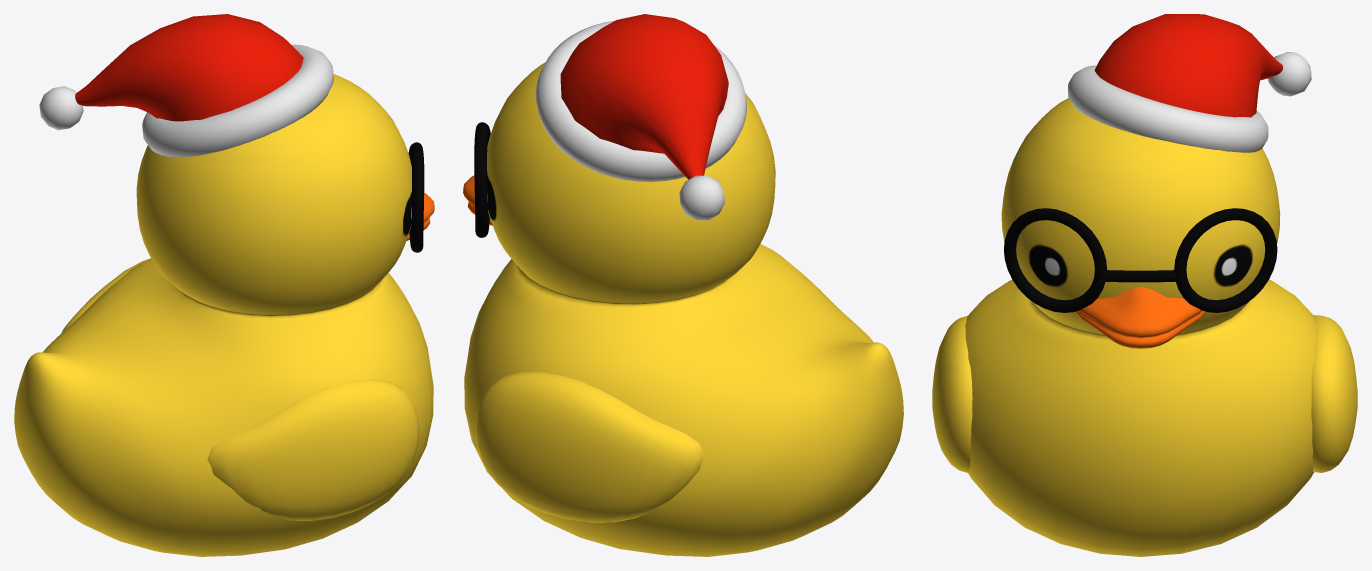
The model's file is bcduck_glasses.glb.
The picture shows the model from 3 angles, left to right: view 1: azimuth 30°, elevation 25°; view 2: azimuth 150°, elevation 25°; view 3: azimuth 270°, elevation 25°; orthographic projection. The views are drawn at different scales.
Visible parts, largest first — view 1: boostcampDuck, colorPart, hatWhitePart, glasses; view 2: boostcampDuck, colorPart, hatWhitePart, glasses; view 3: boostcampDuck, colorPart, hatWhitePart, glasses.
Part boxes in pixels (x1,y1,x2,y2): boostcampDuck: (14, 74, 434, 556); colorPart: (75, 14, 303, 121); hatWhitePart: (39, 44, 333, 157); glasses: (408, 142, 424, 252); boostcampDuck: (463, 62, 903, 556); colorPart: (560, 14, 728, 179); hatWhitePart: (535, 21, 746, 220); glasses: (474, 122, 490, 237); boostcampDuck: (932, 98, 1357, 556); colorPart: (1094, 14, 1282, 117); hatWhitePart: (1068, 52, 1311, 152); glasses: (1004, 208, 1277, 312).
Size of the model in its own units: 2.05 by 2.37 by 1.83.
Materials: 4 (1 with a texture image).
